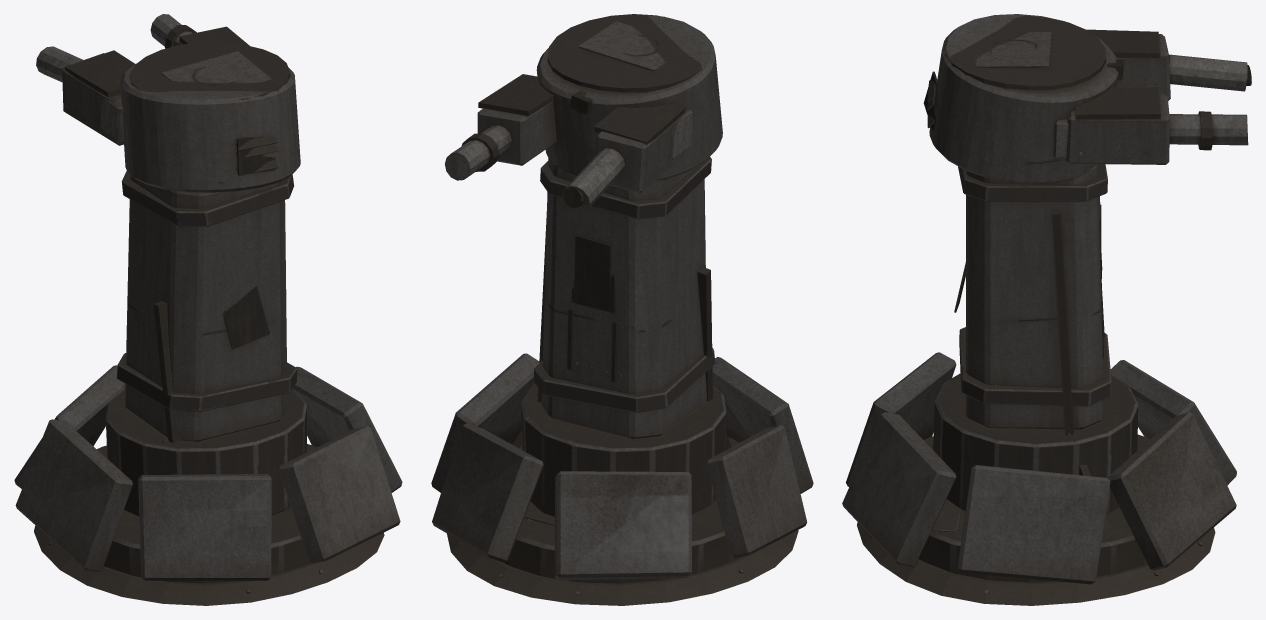
File: chs_twin_guard_wreck.fbx
3 renders of one model, left to right at view 1: azimuth 30°, elevation 25°; view 2: azimuth 150°, elevation 25°; view 3: azimuth 270°, elevation 25°, orthographic. The views are drawn at different scales.
Visible parts, largest first — view 1: base_bar, turret_bar, barrel1_bar, barrel2_bar, mount_bar; view 2: base_bar, turret_bar, barrel1_bar, barrel2_bar, mount_bar; view 3: base_bar, turret_bar, barrel2_bar, barrel1_bar, mount_bar.
Boxes of the visible parts, bbox=[...] form: base_bar: bbox=[14, 170, 402, 605]; turret_bar: bbox=[120, 42, 300, 192]; barrel1_bar: bbox=[36, 46, 134, 145]; barrel2_bar: bbox=[150, 14, 249, 48]; mount_bar: bbox=[100, 98, 124, 143]; base_bar: bbox=[431, 157, 813, 605]; turret_bar: bbox=[536, 14, 722, 180]; barrel1_bar: bbox=[562, 103, 685, 212]; barrel2_bar: bbox=[445, 74, 556, 180]; mount_bar: bbox=[672, 109, 692, 159]; base_bar: bbox=[842, 164, 1236, 605]; turret_bar: bbox=[923, 14, 1123, 184]; barrel2_bar: bbox=[1065, 87, 1248, 164]; barrel1_bar: bbox=[1086, 29, 1251, 100]; mount_bar: bbox=[1053, 119, 1068, 158].
Size of the model in its own units: 1133 by 1796 by 1227.
Materials: 2 (2 with a texture image).
